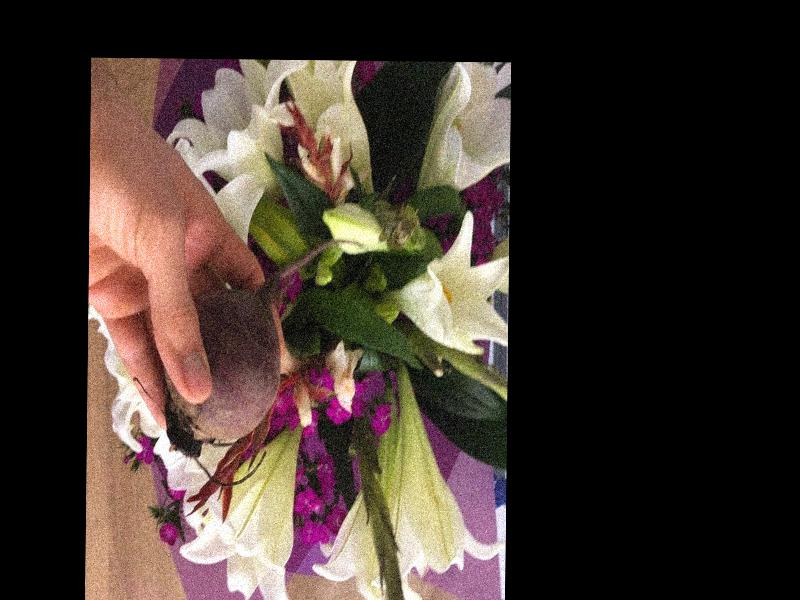Beet: (163, 236, 365, 488)
